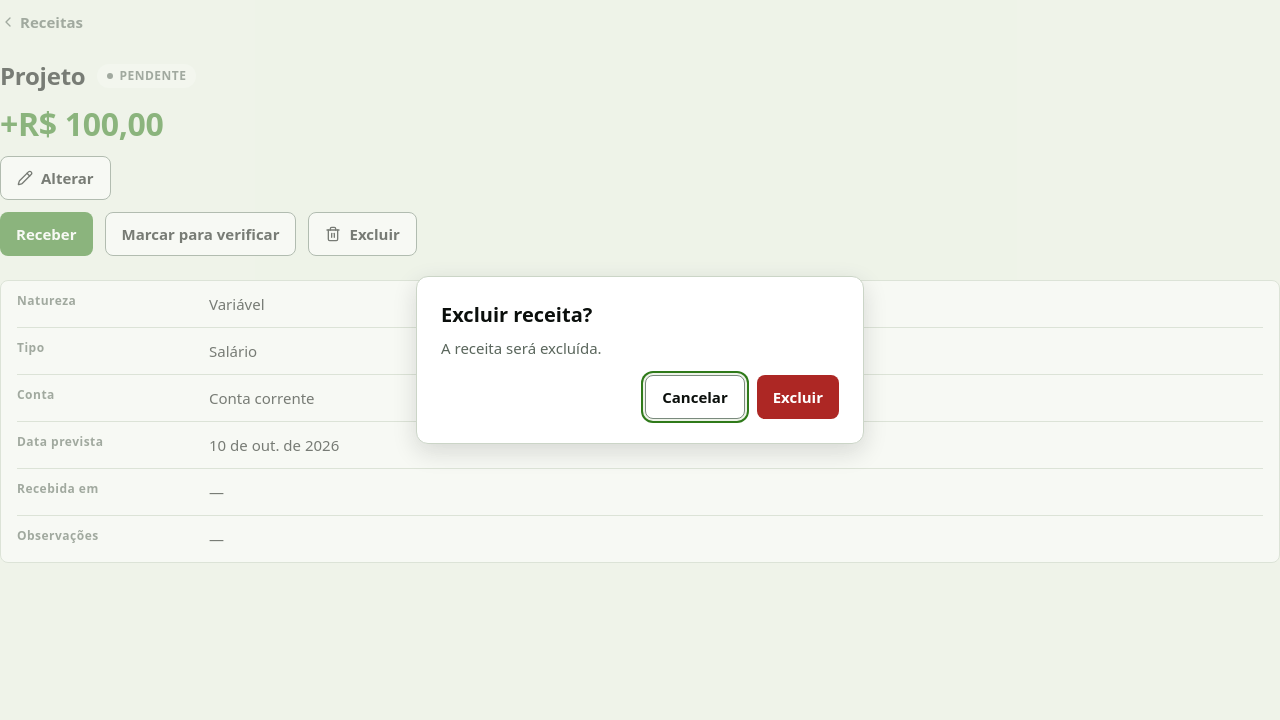
Test: EarningActions (spec 0014) › deletes after confirming and goes back to the list
This screenshot has width=1280, height=720.
Expected: the heading "Projeto" is shown, top-left (0, 60), bottom-right (86, 92)
Click the button "Excluir" at (798, 397), box top-left (757, 375), bottom-right (839, 419)
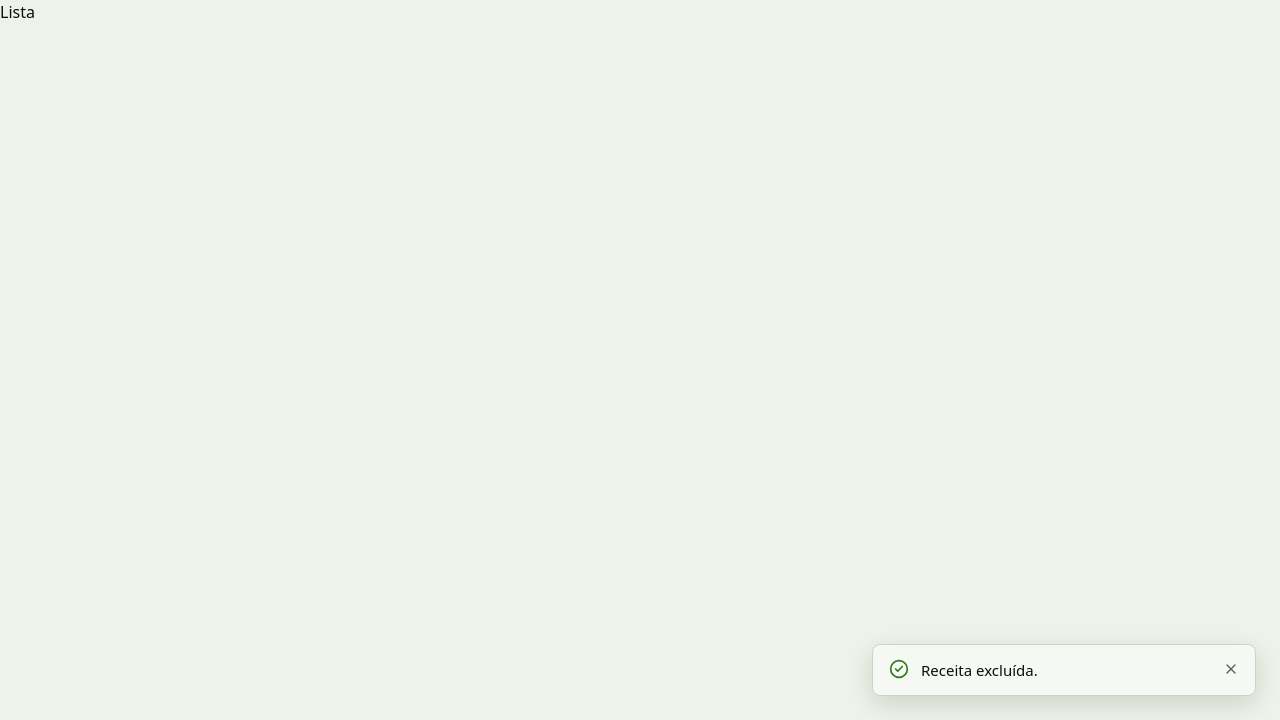
Expected: the text "Receita excluída." is shown, top-left (921, 660), bottom-right (1038, 680)
